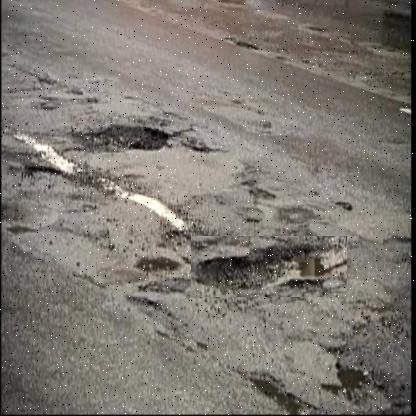pothole: (190, 236, 347, 298), (61, 116, 186, 174)
